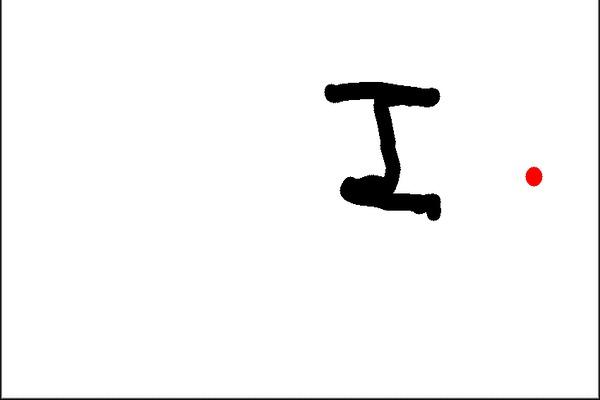i: (314, 77, 455, 226)
